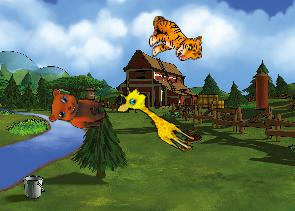bear: (47, 86, 107, 129)
giraffe: (111, 82, 203, 155)
tiger: (148, 16, 202, 61)
